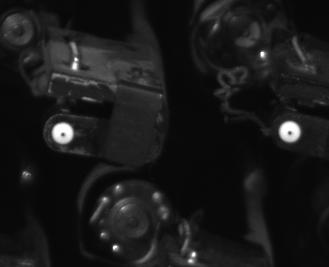fiber: (275, 117, 306, 146), (49, 119, 78, 147)
